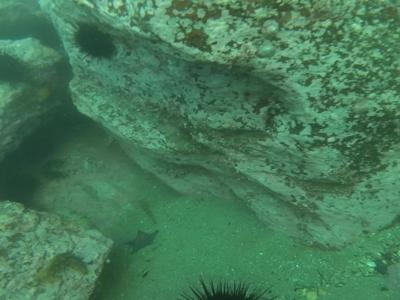urchin: (168, 274, 272, 297), (74, 23, 119, 66), (4, 52, 29, 88)
